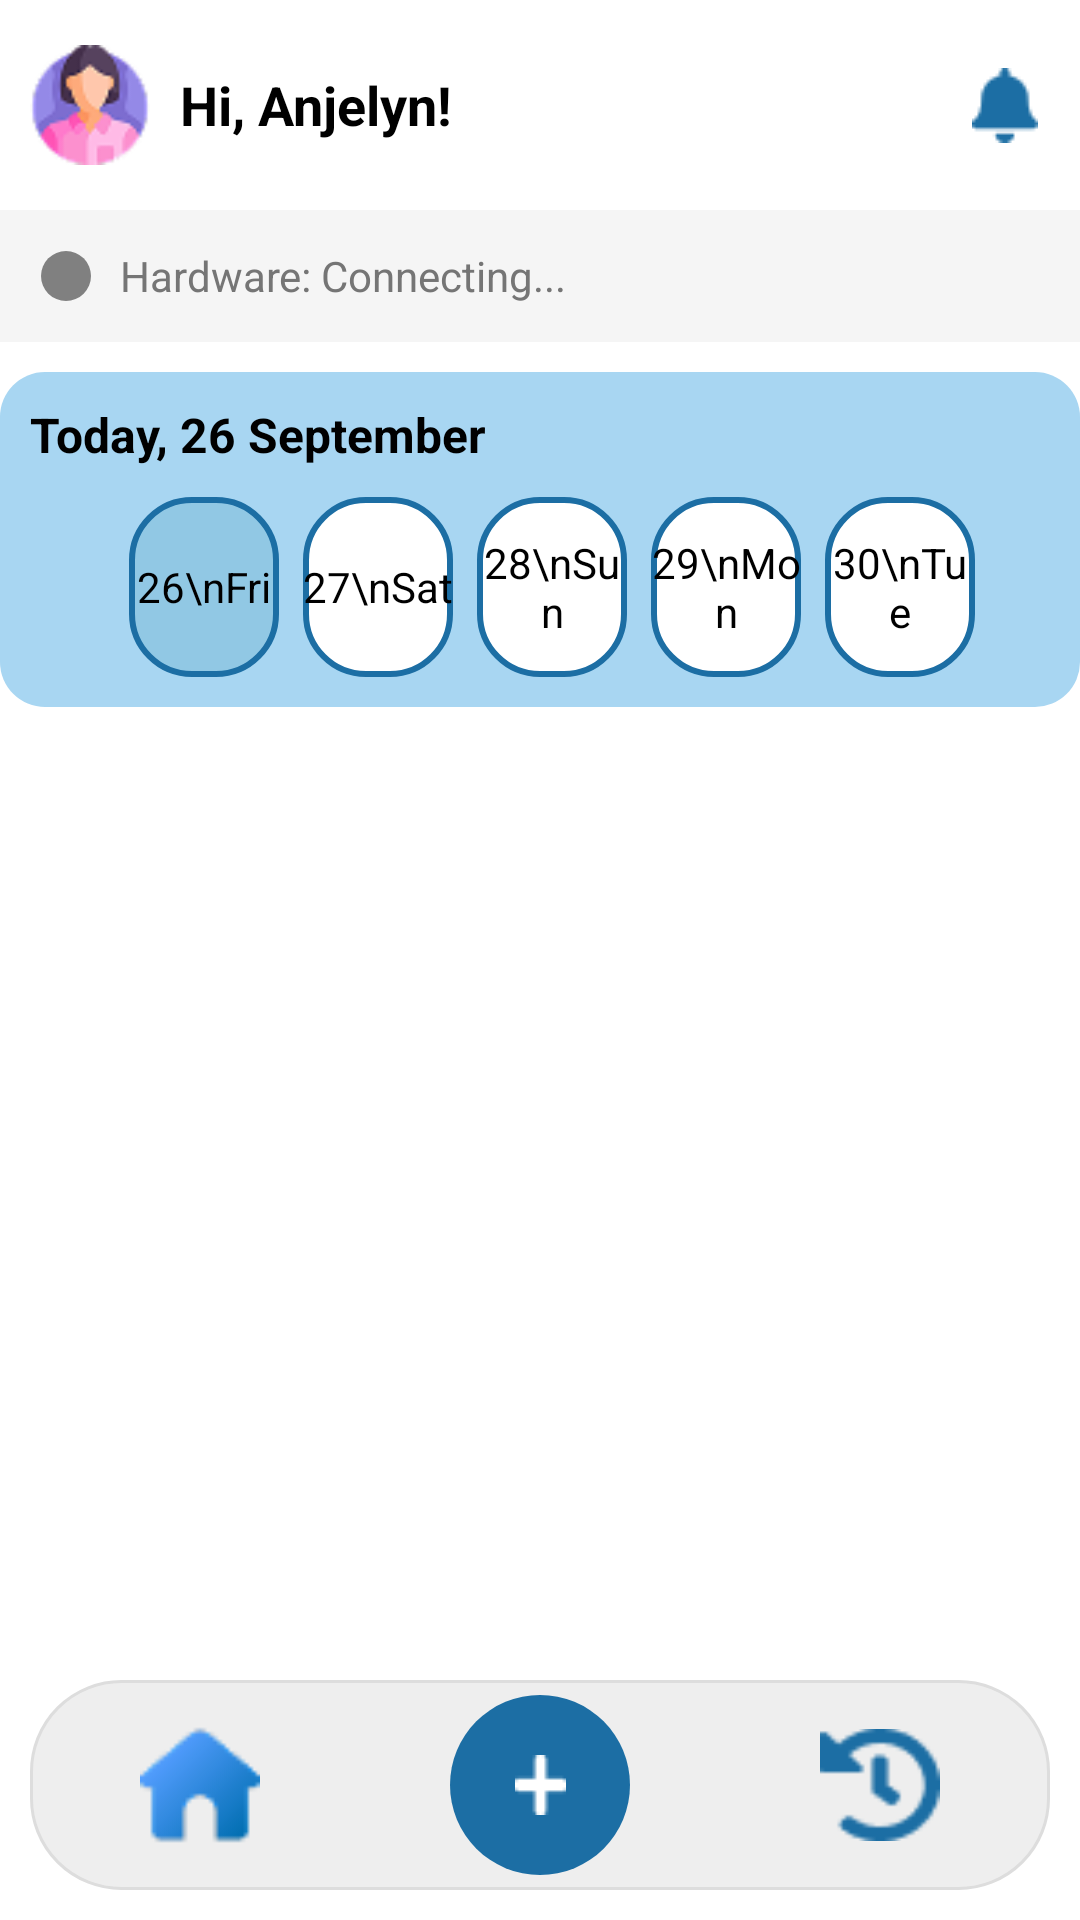

Icons on this 1080px x 1920px Android screen, each with the point to tap as (x=x, y=y):
historyicon: (x=880, y=1785)
homeicon: (x=200, y=1785)
notificationicon: (x=1005, y=105)
plusicon: (x=540, y=1785)
profileicon: (x=90, y=105)
